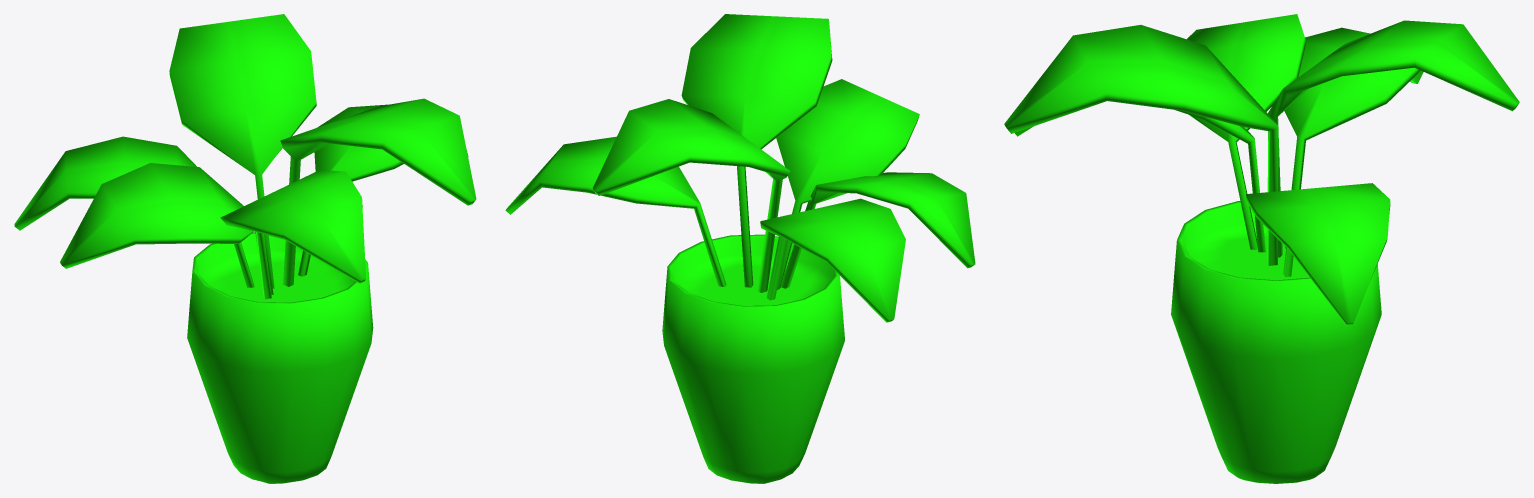
File: Plant.fbx
3 renders of one model, left to right at view 1: azimuth 30°, elevation 25°; view 2: azimuth 150°, elevation 25°; view 3: azimuth 270°, elevation 25°, orthographic. The views are drawn at different scales.
Parts seen in each view (by area): view 1: Plant; view 2: Plant; view 3: Plant.
Part boxes in pixels (bbox=[...]): Plant: bbox=[14, 14, 476, 483]; Plant: bbox=[505, 14, 975, 483]; Plant: bbox=[1004, 14, 1519, 483].
Size of the model in its own units: 1.21 by 1.03 by 1.08.
